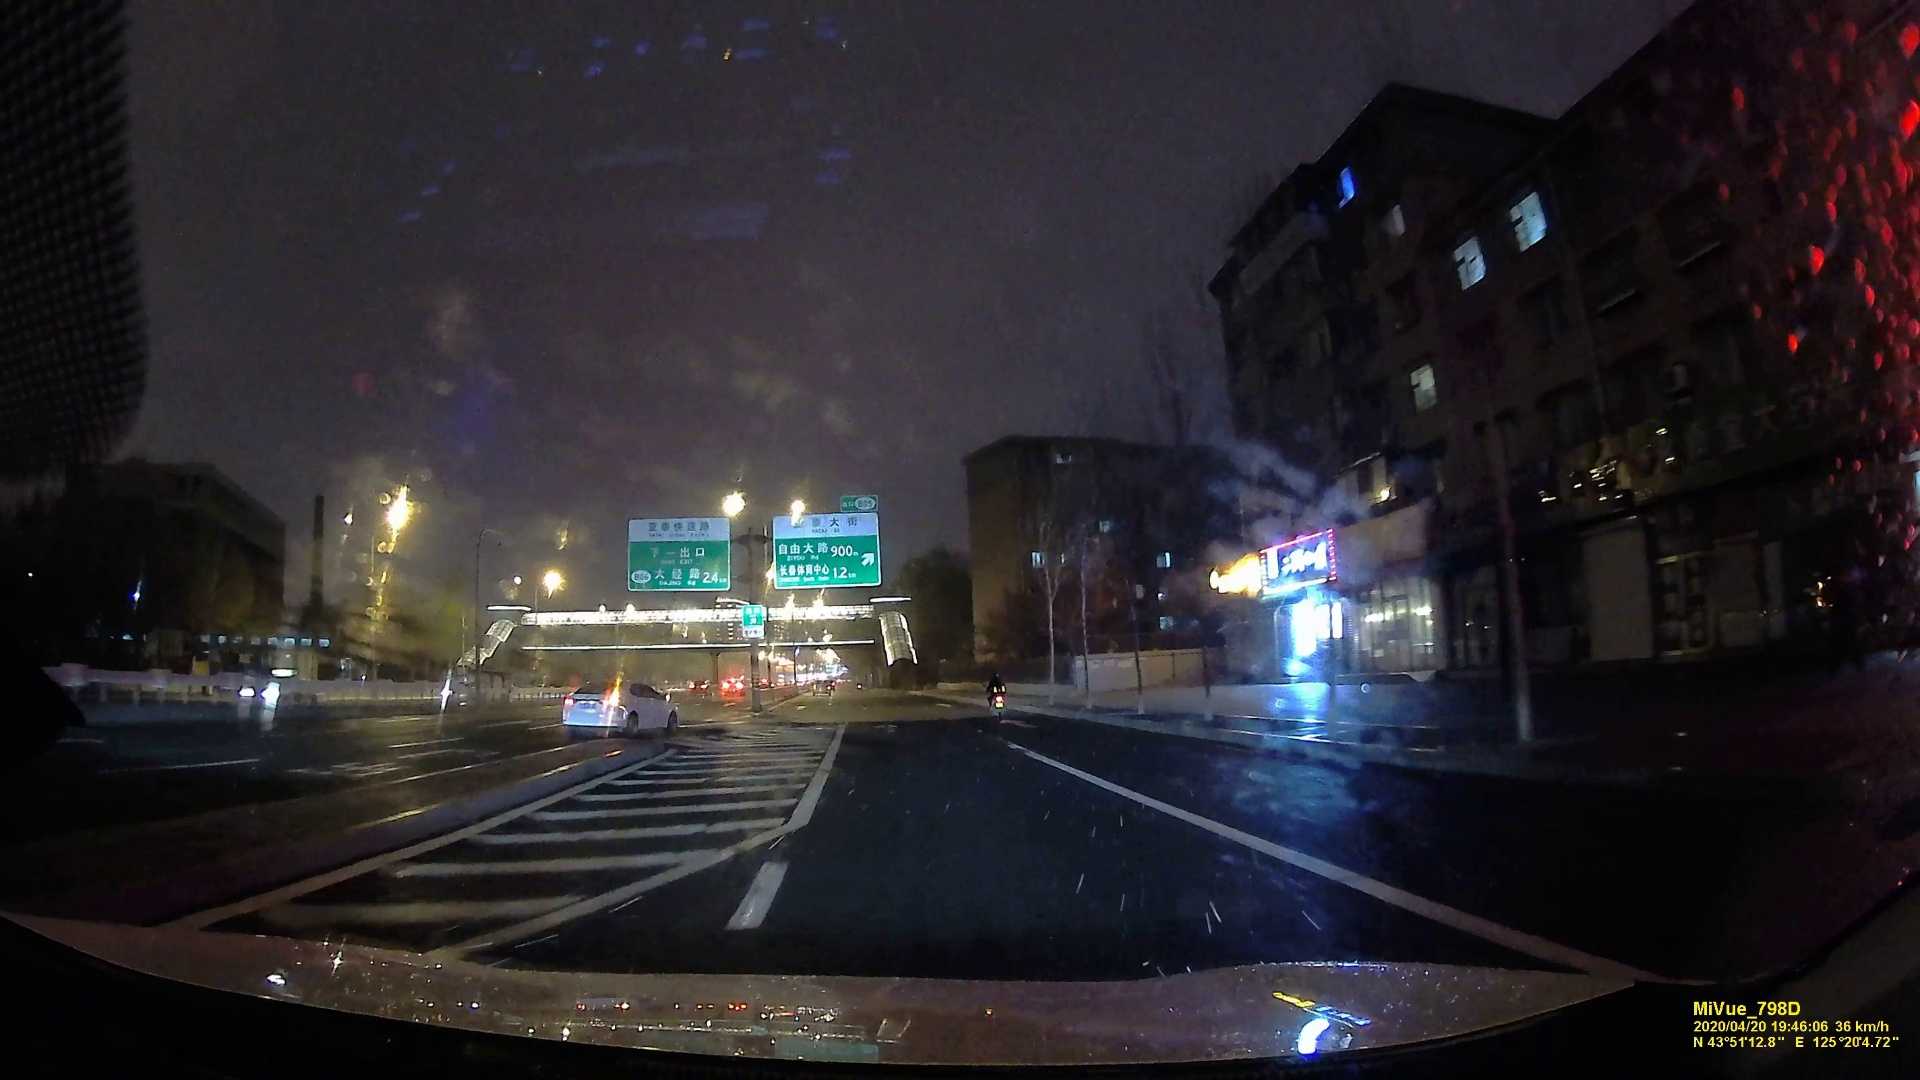person: (983, 670, 1008, 698)
traffic_sign: (626, 514, 730, 589), (773, 515, 880, 584)
vehicle: (556, 680, 681, 738), (238, 671, 304, 701)
